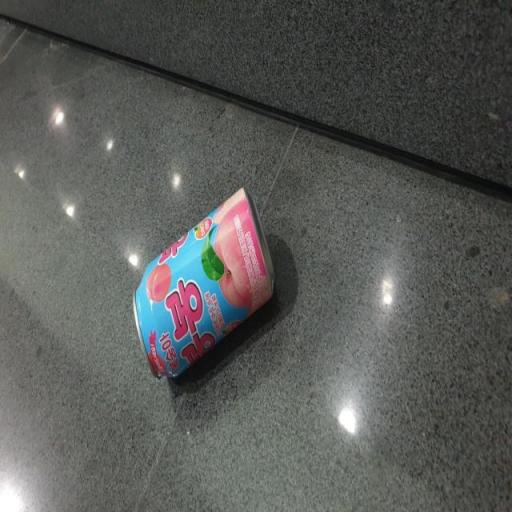metal: (112, 184, 300, 394)
